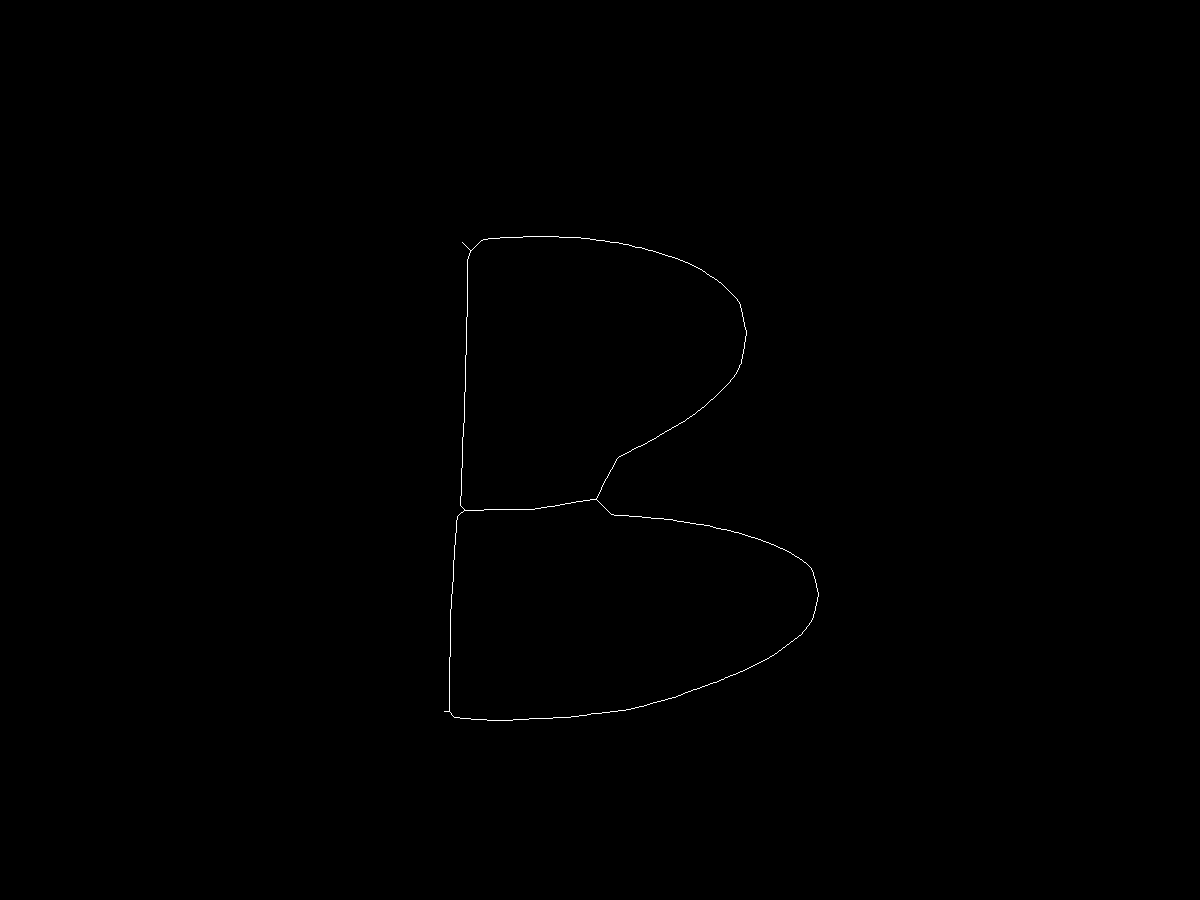dian1: (460, 248, 475, 263)
dian2: (451, 503, 466, 518)
dian3: (434, 706, 449, 721)
dian4: (591, 493, 609, 511)
